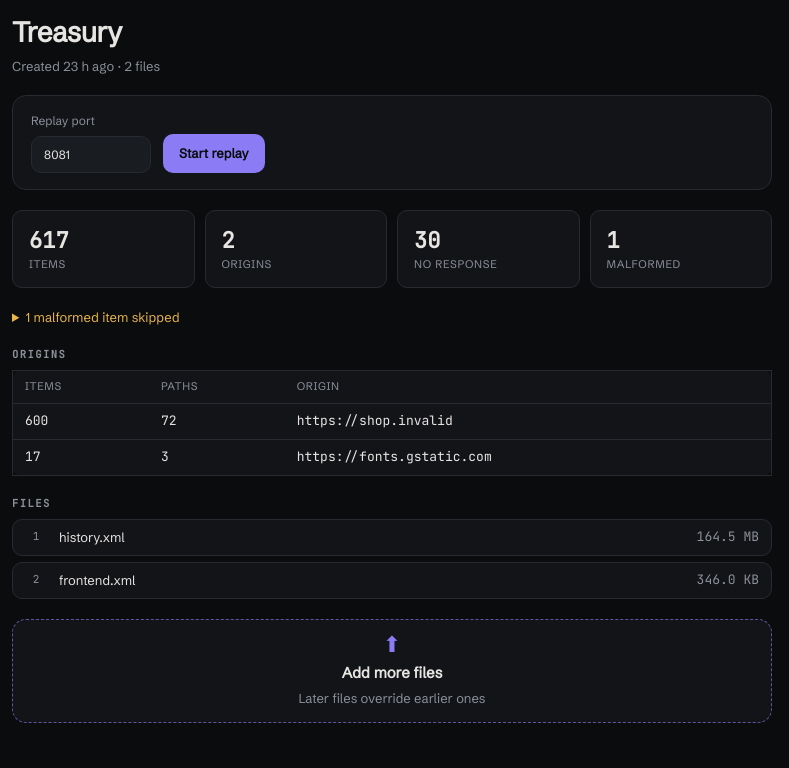
it: malformed items are listed with their reasons
The width and height of the screenshot is (789, 768).
Step 1. Click the heading "1 malformed item skipped" → coordinates (103, 317), box [26,309,180,325]
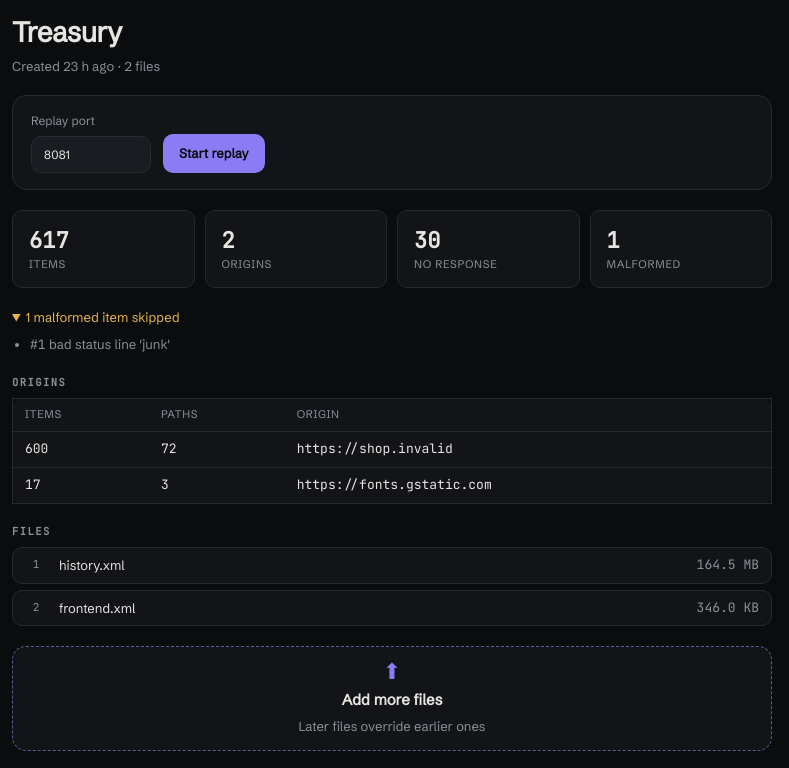
Result: the list item "#1 bad status line 'junk'" is shown at [30,336,170,353]
